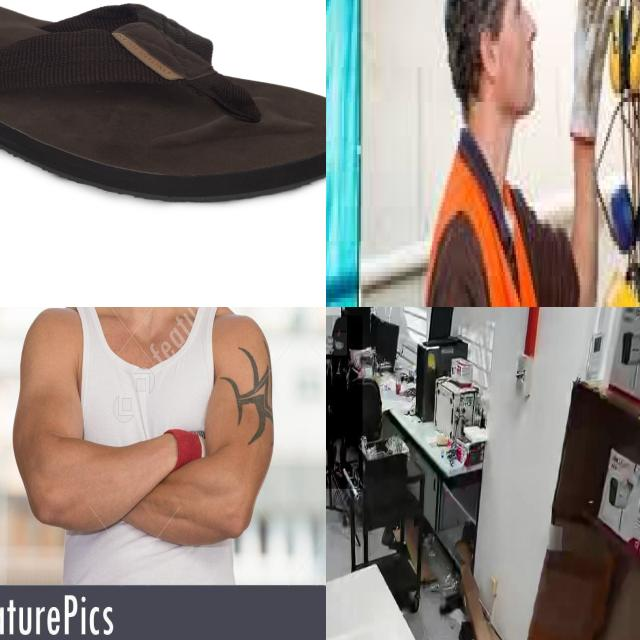Ear-protection: (602, 0, 640, 101), (609, 154, 640, 254)
Sandals: (0, 0, 326, 206)
face_mask: (333, 332, 348, 357)
head_nohelmet: (332, 316, 348, 332)
person: (412, 0, 609, 307), (326, 315, 363, 489)
